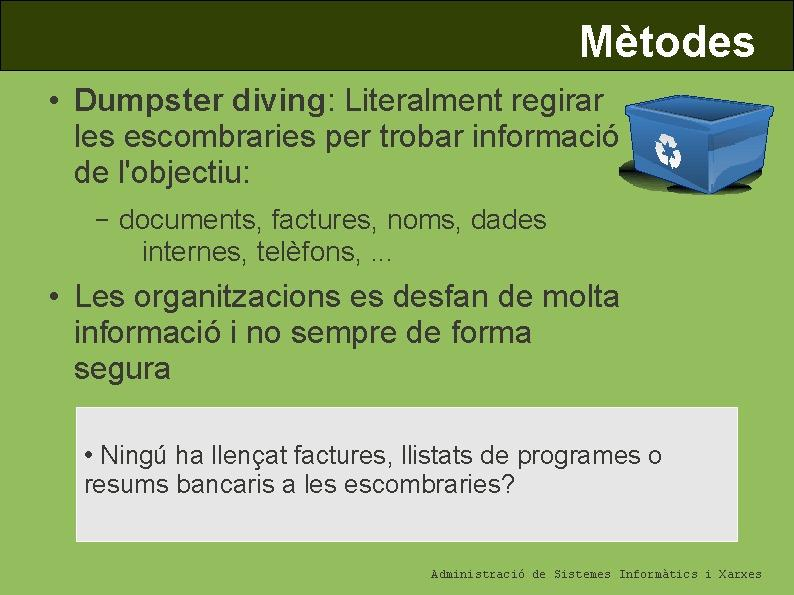paragraph: (41, 80, 761, 562)
subtitle: (427, 562, 782, 587)
title: (571, 12, 759, 72)
